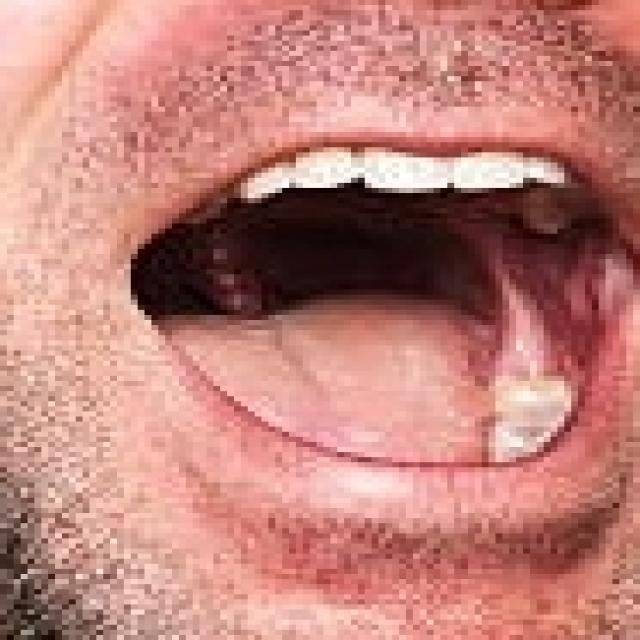open-mouth: (117, 122, 633, 472)
